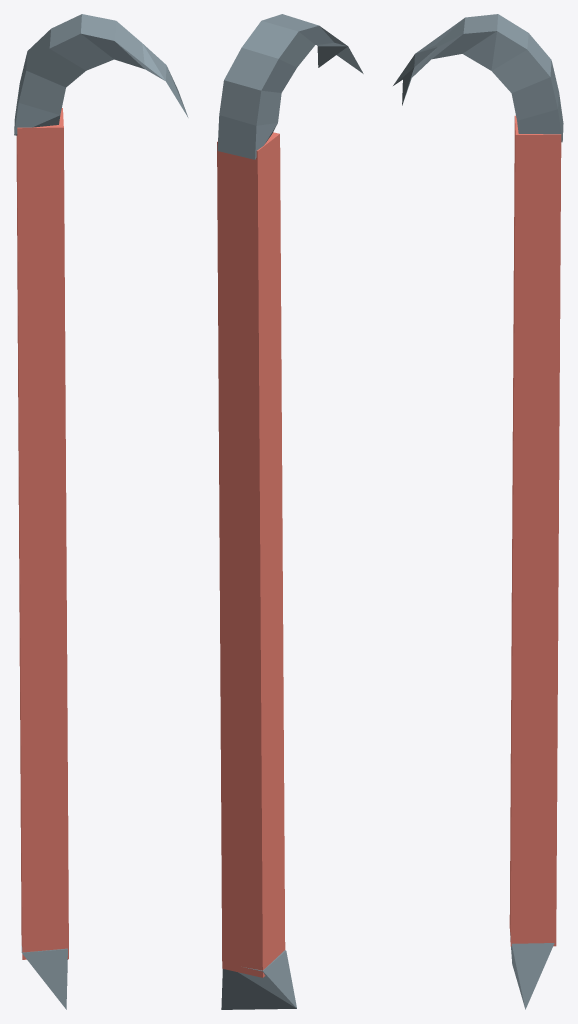
Rendered from item_crowbar.glb.
3 views of the same model, side by side, from view 1: azimuth 90°, elevation 25°; view 2: azimuth 150°, elevation 25°; view 3: azimuth 270°, elevation 25° (orthographic). The views are drawn at different scales.
Visible parts, largest first — view 1: mesh973398893, mesh690576605, mesh986483939; view 2: mesh973398893, mesh690576605, mesh986483939; view 3: mesh973398893, mesh690576605, mesh986483939.
Boxes of the visible parts, x1,y1,x2,y2 form: mesh973398893: (16, 108, 68, 959); mesh690576605: (14, 14, 188, 135); mesh986483939: (21, 946, 67, 1009); mesh973398893: (217, 132, 285, 977); mesh690576605: (217, 14, 363, 159); mesh986483939: (221, 950, 296, 1009); mesh973398893: (509, 115, 561, 946); mesh690576605: (393, 14, 563, 142); mesh986483939: (510, 932, 554, 1009).
Bounding box in the file's own units: 0.0558 × 0.702 × 0.1126.
